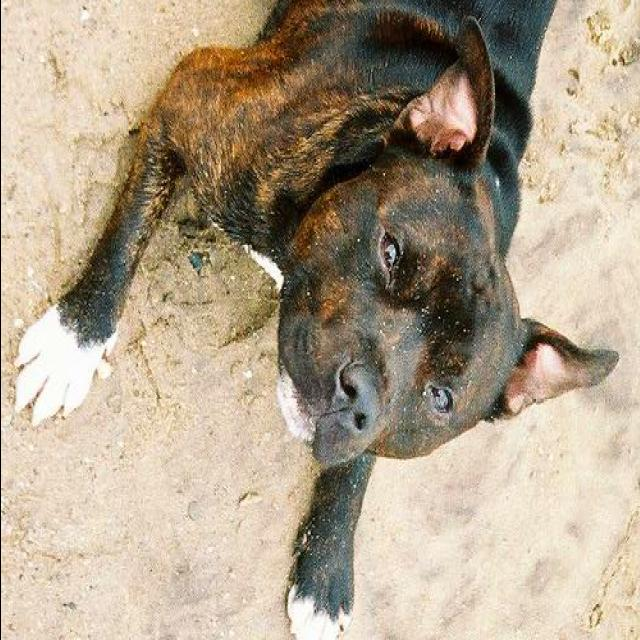staffordshire_bullterrier: (17, 3, 614, 640)
